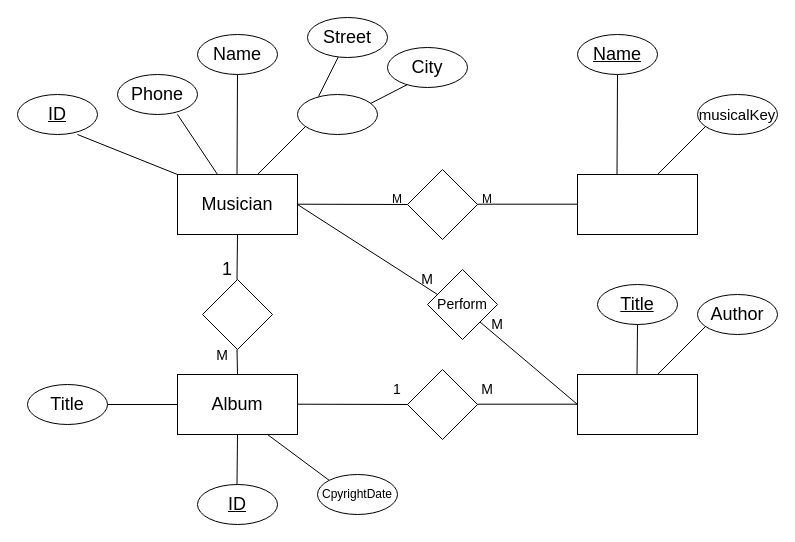
The diagram is 795 pixels wide and 542 high, and some of its shapes have lost their labels. Here are the shapes that lost their labels. From the top down, the centre of each, then its label:
At point 337,114: "Address".
At point 442,204: "Plays".
At point 637,204: "Instrument".
At point 237,314: "Produce".
At point 442,404: "Has".
At point 637,404: "Song".
